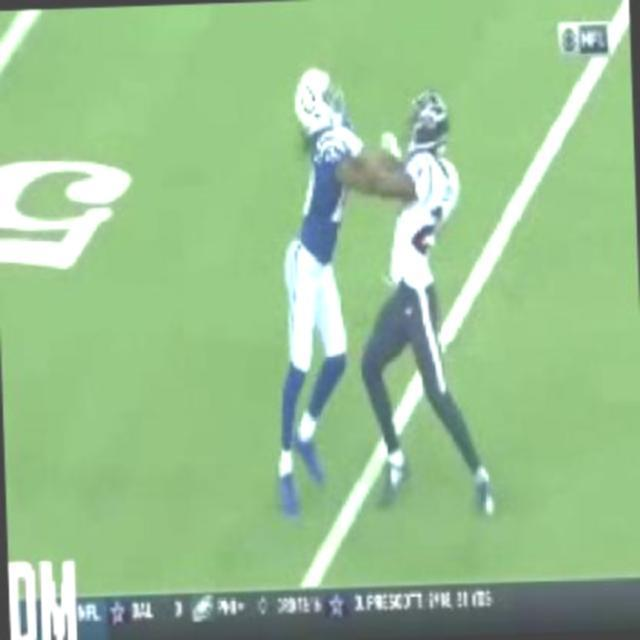fight: (268, 61, 501, 518)
